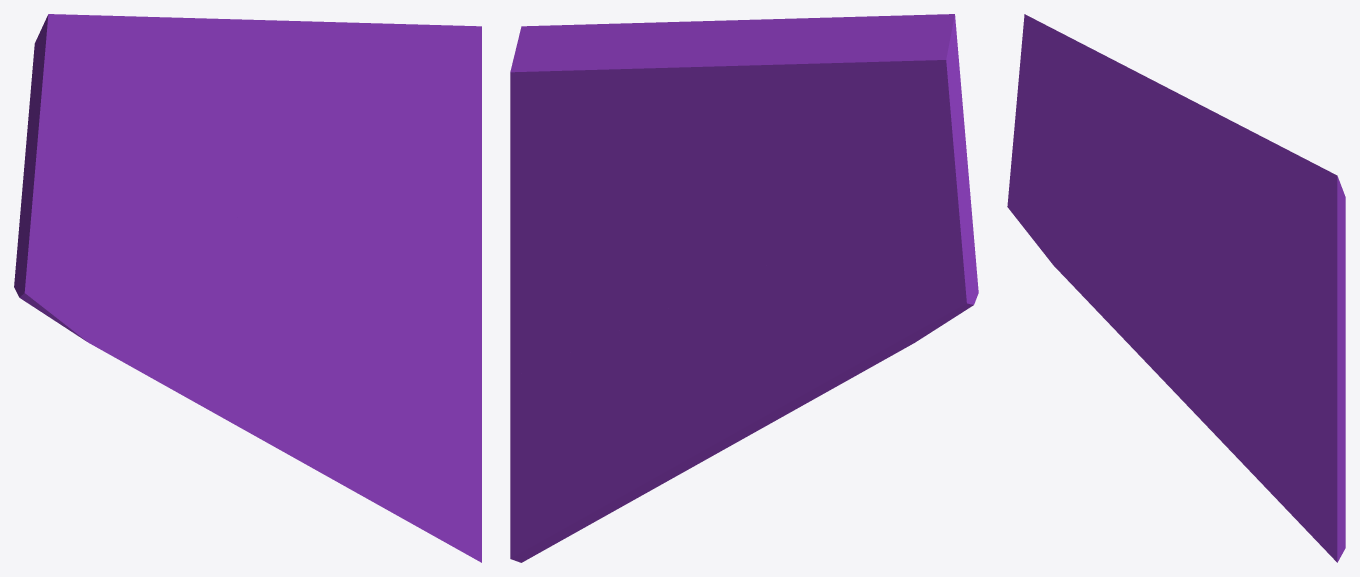
The model's file is Window_6_4_chunks.fbx.
The picture shows the model from 3 angles, left to right: view 1: azimuth 30°, elevation 25°; view 2: azimuth 150°, elevation 25°; view 3: azimuth 330°, elevation 25°; orthographic projection. The views are drawn at different scales.
Parts seen in each view (by area): view 1: Window_6_4_0, Window_6_4_3, Window_6_4_8, Window_6_4_9, Window_6_4_4, Window_6_4_6, Window_6_4_5, Window_6_4_2, Window_6_4_1; view 2: Window_6_4_0, Window_6_4_8, Window_6_4_9, Window_6_4_3, Window_6_4_4, Window_6_4_6, Window_6_4_2, Window_6_4_5, Window_6_4_7; view 3: Window_6_4_0, Window_6_4_3, Window_6_4_8, Window_6_4_9, Window_6_4_4, Window_6_4_6, Window_6_4_5, Window_6_4_2, Window_6_4_1.
Boxes of the visible parts, x1,y1,x2,y2 form: Window_6_4_0: (14,14,242,344); Window_6_4_3: (251,334,481,562); Window_6_4_8: (326,68,481,363); Window_6_4_9: (231,19,481,187); Window_6_4_4: (92,289,277,433); Window_6_4_6: (226,146,331,294); Window_6_4_5: (166,257,333,358); Window_6_4_2: (305,298,414,342); Window_6_4_1: (208,194,260,265); Window_6_4_0: (758,14,978,345); Window_6_4_8: (510,76,663,378); Window_6_4_9: (510,19,765,183); Window_6_4_3: (510,364,751,562); Window_6_4_4: (707,287,910,436); Window_6_4_6: (659,148,776,310); Window_6_4_2: (544,299,718,377); Window_6_4_5: (689,261,812,344); Window_6_4_7: (606,151,680,217); Window_6_4_0: (1007,14,1164,267); Window_6_4_3: (1171,342,1345,562); Window_6_4_8: (1225,199,1345,418); Window_6_4_9: (1156,86,1345,238); Window_6_4_4: (1056,254,1189,387); Window_6_4_6: (1153,174,1228,313); Window_6_4_5: (1109,246,1230,343); Window_6_4_2: (1210,320,1288,373); Window_6_4_1: (1140,207,1177,270).
Size of the model in its own units: 640 by 875 by 27.2.
